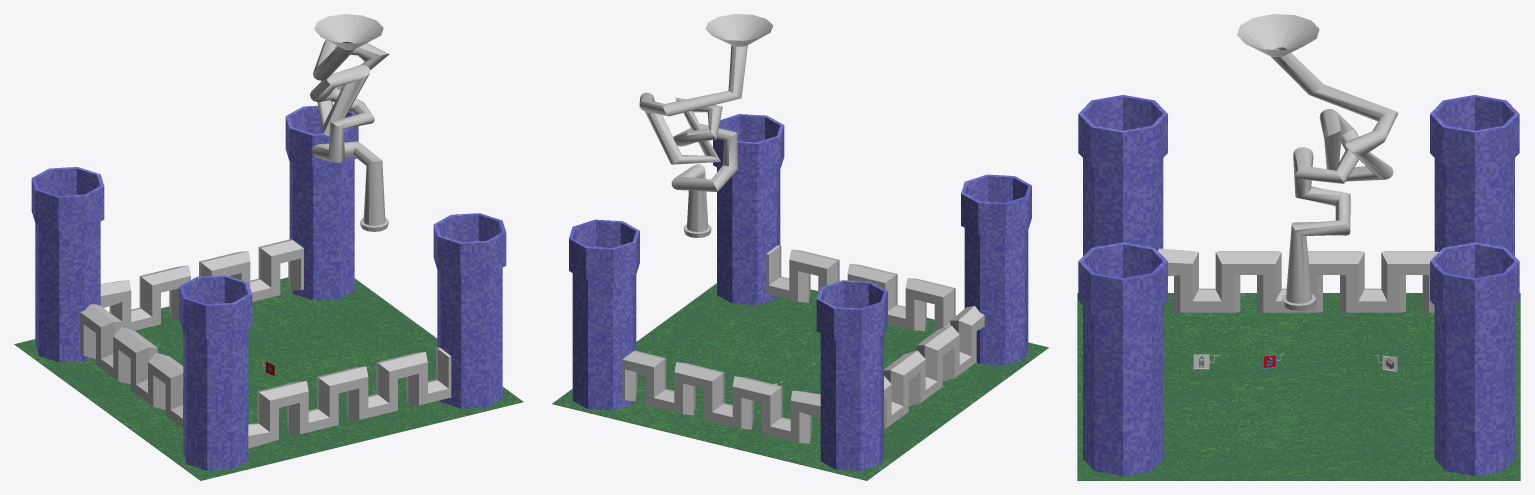
3 renders of one model, left to right at view 1: azimuth 30°, elevation 25°; view 2: azimuth 150°, elevation 25°; view 3: azimuth 270°, elevation 25°, orthographic. The views are drawn at different scales.
Visible parts, largest first — view 1: boundary, FloorBaseGrass_01, Plane.003, Circle.001; view 2: boundary, FloorBaseGrass_01, Plane.003, Circle.001; view 3: boundary, FloorBaseGrass_01, Circle.001, Plane.003.
Boxes of the visible parts, x1,y1,x2,y2 form: boundary: (31,105,506,470); FloorBaseGrass_01: (14,277,523,480); Plane.003: (80,239,451,448); Circle.001: (310,14,389,231); boundary: (569,114,1031,470); FloorBaseGrass_01: (552,283,1048,480); Plane.003: (622,245,984,443); Circle.001: (639,14,772,237); boundary: (1078,95,1519,476); FloorBaseGrass_01: (1077,293,1520,480); Circle.001: (1237,14,1397,310); Plane.003: (1158,248,1438,312).
Size of what is drawn, in the model's own units: 16 by 15.83 by 16.
7 materials, 5 textured.
